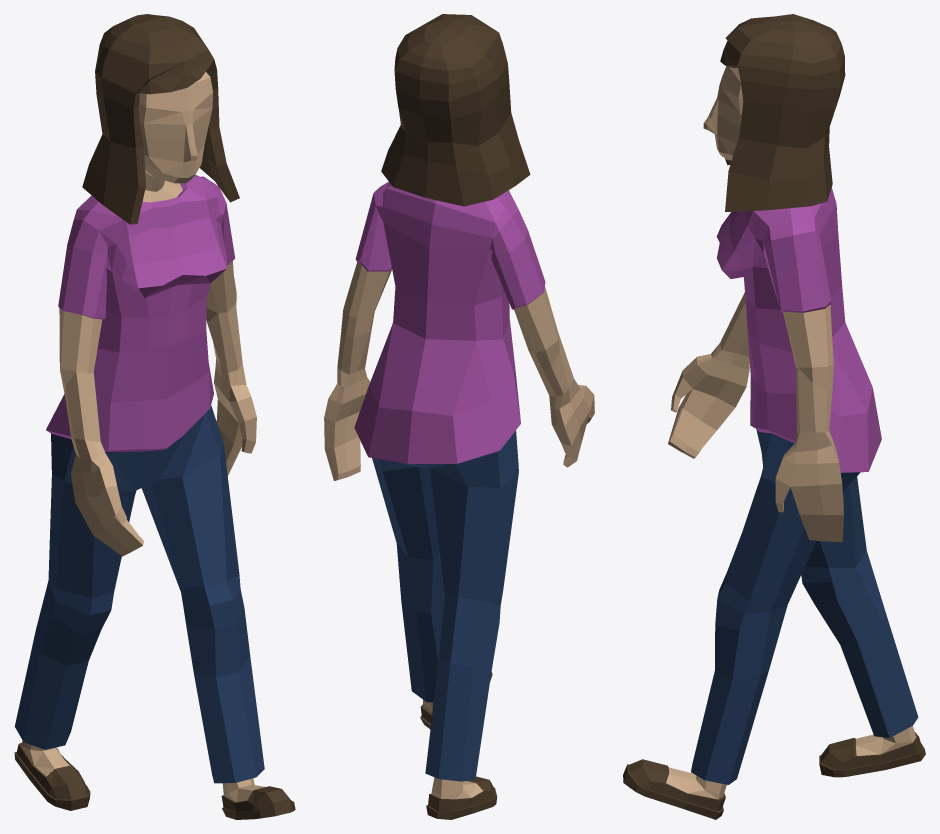
File: 52 People_female_3.fbx
3 renders of one model, left to right at view 1: azimuth 30°, elevation 25°; view 2: azimuth 150°, elevation 25°; view 3: azimuth 270°, elevation 25°, orthographic. The views are drawn at different scales.
Parts seen in each view (by area): view 1: Female_Walking18; view 2: Female_Walking18; view 3: Female_Walking18.
Boxes of the visible parts, x1,y1,x2,y2 form: Female_Walking18: [14, 14, 295, 819]; Female_Walking18: [324, 14, 594, 819]; Female_Walking18: [623, 14, 925, 819].
Bounding box in the file's own units: 10.28 × 37.22 × 13.13.
